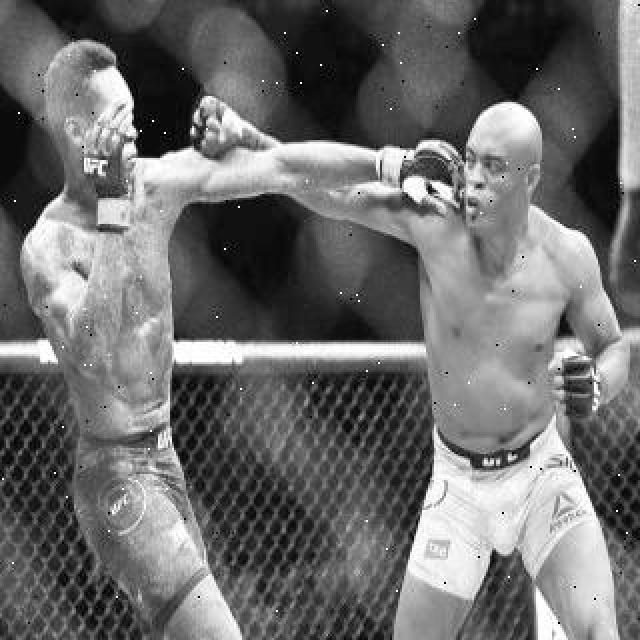fight: (27, 30, 639, 640)
